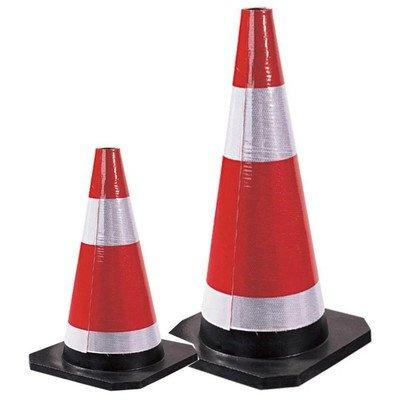cone_barrel: (187, 13, 343, 369), (47, 149, 173, 378)
